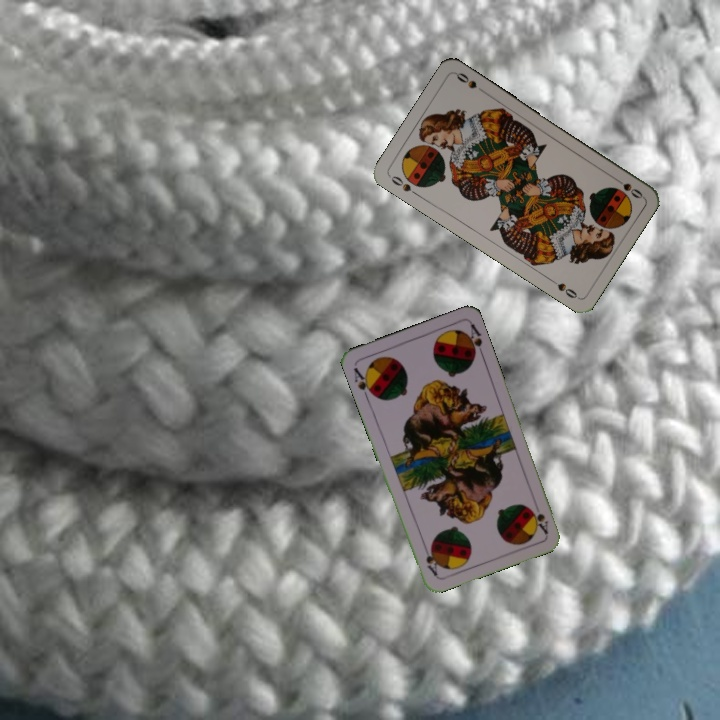SA: (350, 363, 377, 402), (527, 504, 551, 537)
SO: (609, 173, 646, 201), (387, 172, 422, 199)
